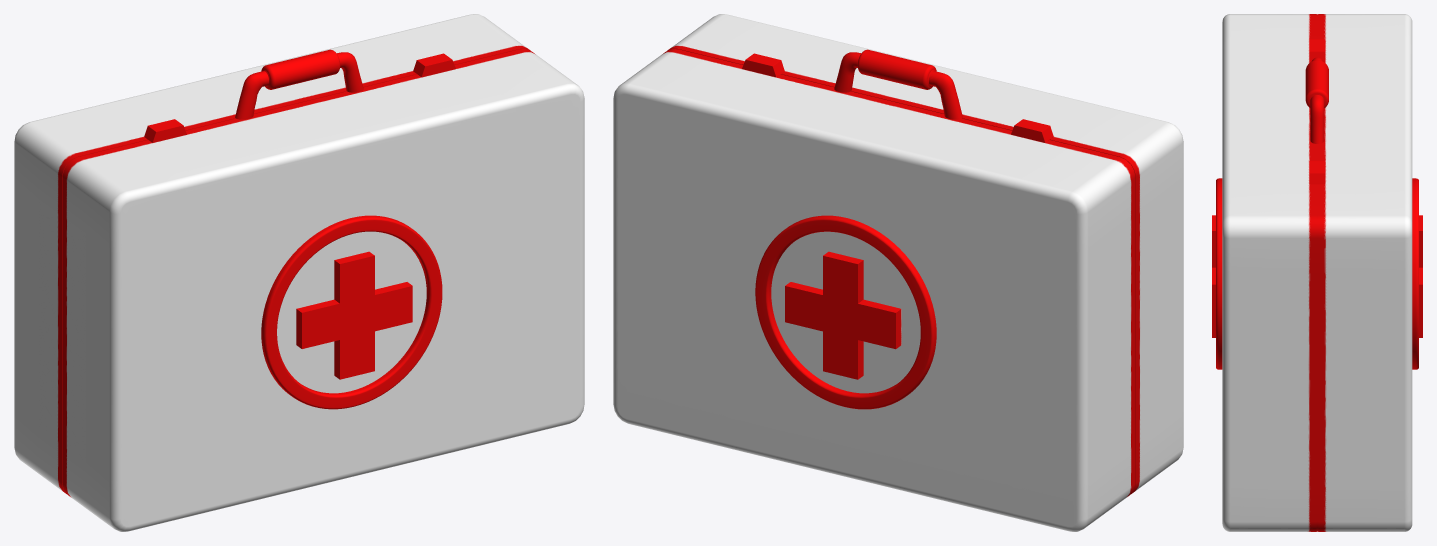
File: First aid kit.fbx
The picture shows the model from 3 angles, left to right: view 1: azimuth 30°, elevation 25°; view 2: azimuth 150°, elevation 25°; view 3: azimuth 270°, elevation 25°; orthographic projection. The views are drawn at different scales.
Parts seen in each view (by area): view 1: First_aid_kit; view 2: First_aid_kit; view 3: First_aid_kit.
Part boxes in pixels (<box>): First_aid_kit: <box>14,14,584,531</box>; First_aid_kit: <box>613,14,1183,531</box>; First_aid_kit: <box>1212,14,1422,531</box>.
Bounding box in the file's own units: 59.53 × 46.16 × 24.72.
